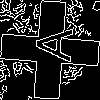A: (25, 25, 73, 63)
